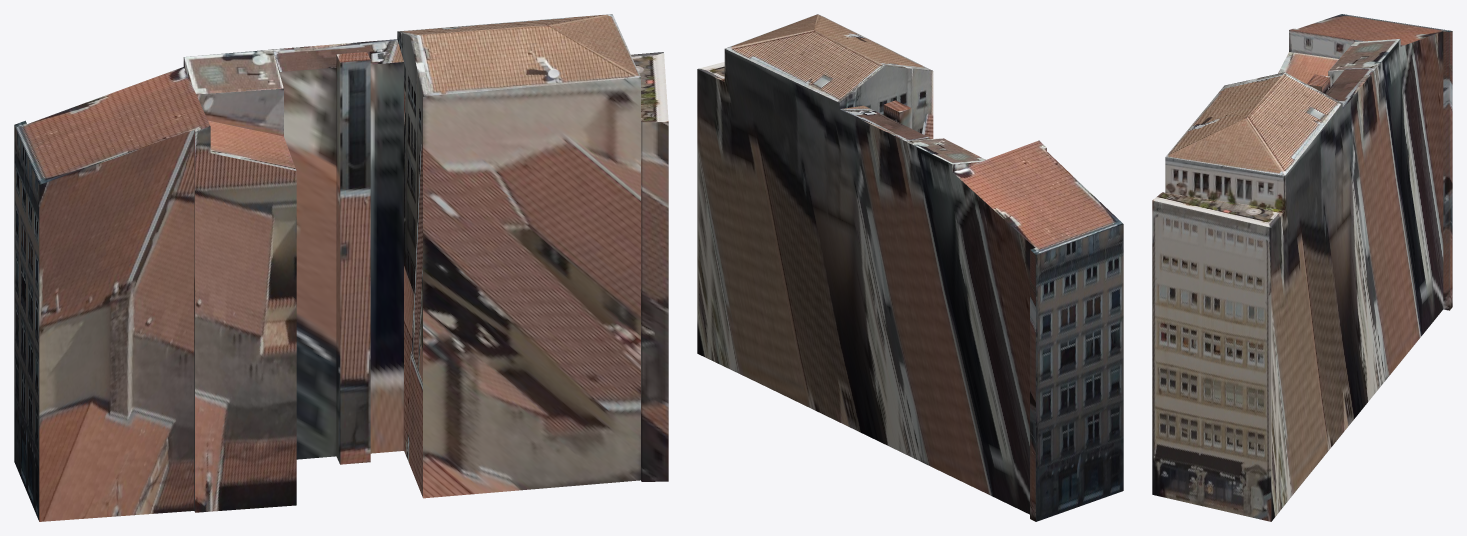
The picture shows the model from 3 angles, left to right: view 1: azimuth 30°, elevation 25°; view 2: azimuth 150°, elevation 25°; view 3: azimuth 270°, elevation 25°; orthographic projection. The views are drawn at different scales.
Visible parts, largest first — view 1: Z_UP; view 2: Z_UP; view 3: Z_UP.
Boxes of the visible parts, x1=… form: Z_UP: x1=14, y1=14, x2=668, y2=521; Z_UP: x1=697, y1=14, x2=1123, y2=521; Z_UP: x1=1152, y1=14, x2=1452, y2=521.
Size of the model in its own units: 44.5 by 31.44 by 24.35.
Materials: 2 (1 with a texture image).
